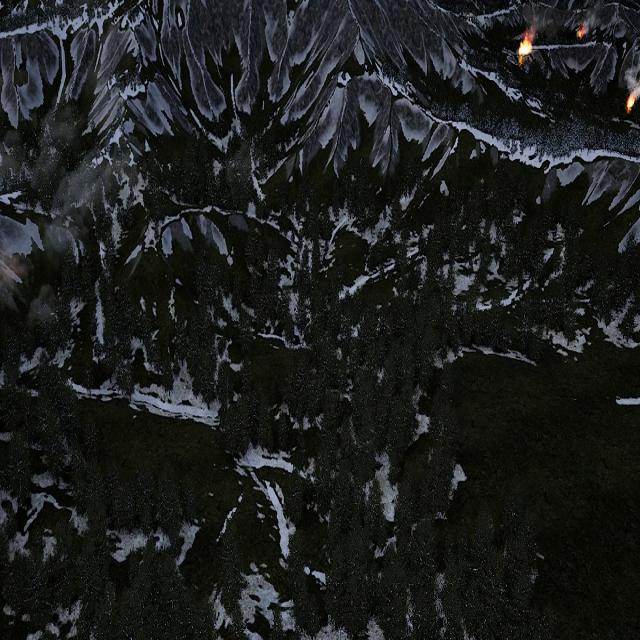fire: (519, 33, 533, 60), (627, 96, 636, 112), (576, 26, 586, 38)
smoke: (0, 99, 121, 261), (530, 2, 598, 40), (28, 282, 57, 326), (624, 60, 640, 95)
